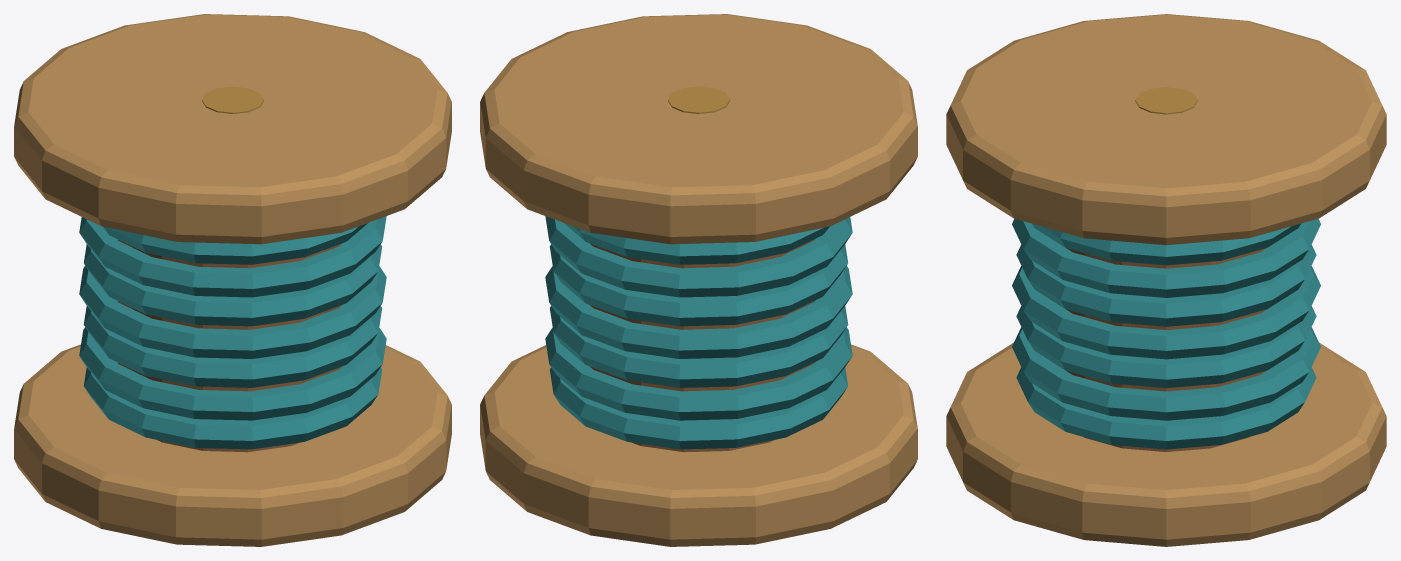
File: spool.glb
3 views of the same model, side by side, from view 1: azimuth 30°, elevation 25°; view 2: azimuth 150°, elevation 25°; view 3: azimuth 270°, elevation 25° (orthographic).
Parts seen in each view (by area): view 1: TopFlange, BottomFlange, ThreadCoil3, ThreadCoil1, ThreadCoil5, ThreadCoil2, ThreadCoil0, ThreadCoil4, ThreadCoil6, Body, BrassPeg; view 2: TopFlange, BottomFlange, ThreadCoil3, ThreadCoil1, ThreadCoil5, ThreadCoil2, ThreadCoil0, ThreadCoil4, ThreadCoil6, Body, BrassPeg; view 3: TopFlange, BottomFlange, ThreadCoil3, ThreadCoil1, ThreadCoil5, ThreadCoil0, ThreadCoil4, ThreadCoil2, ThreadCoil6, Body, BrassPeg.
Part boxes in pixels (x1,y1,x2,y2): TopFlange: [14, 14, 451, 244]; BottomFlange: [14, 344, 451, 546]; ThreadCoil3: [79, 266, 386, 358]; ThreadCoil1: [79, 327, 386, 420]; ThreadCoil5: [79, 216, 386, 297]; ThreadCoil2: [83, 300, 382, 387]; ThreadCoil0: [84, 362, 381, 449]; ThreadCoil4: [84, 239, 382, 326]; ThreadCoil6: [102, 223, 367, 264]; Body: [118, 239, 341, 452]; BrassPeg: [202, 86, 263, 113]; TopFlange: [480, 14, 917, 244]; BottomFlange: [480, 344, 917, 546]; ThreadCoil3: [545, 266, 852, 358]; ThreadCoil1: [545, 327, 852, 420]; ThreadCoil5: [545, 216, 852, 297]; ThreadCoil2: [549, 300, 848, 387]; ThreadCoil0: [550, 362, 847, 449]; ThreadCoil4: [549, 239, 847, 326]; ThreadCoil6: [564, 223, 829, 264]; Body: [590, 239, 813, 452]; BrassPeg: [668, 86, 729, 113]; TopFlange: [946, 14, 1386, 245]; BottomFlange: [946, 342, 1386, 546]; ThreadCoil3: [1012, 266, 1320, 359]; ThreadCoil1: [1012, 327, 1320, 420]; ThreadCoil5: [1012, 218, 1320, 297]; ThreadCoil0: [1016, 367, 1316, 449]; ThreadCoil4: [1016, 244, 1316, 326]; ThreadCoil2: [1016, 306, 1316, 387]; ThreadCoil6: [1032, 223, 1300, 265]; Body: [1065, 247, 1267, 451]; BrassPeg: [1135, 87, 1197, 114].
Size of the model in its own units: 0.78 by 0.7025 by 0.78.
